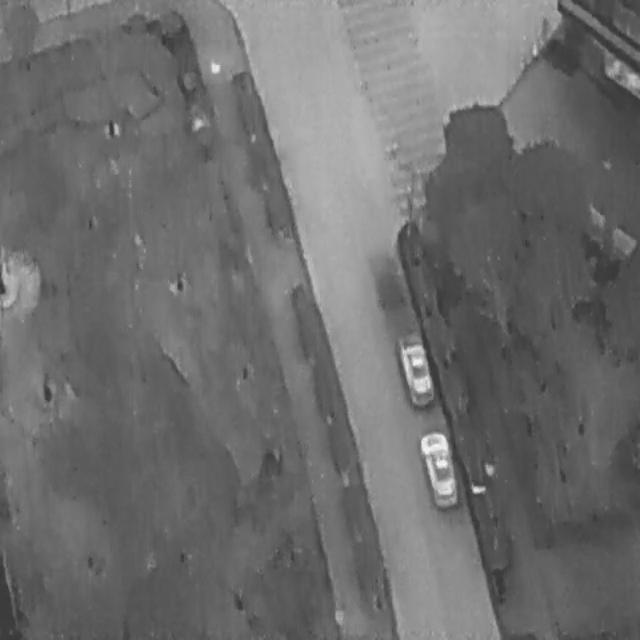Car: (415, 424, 463, 511), (394, 328, 440, 412)
